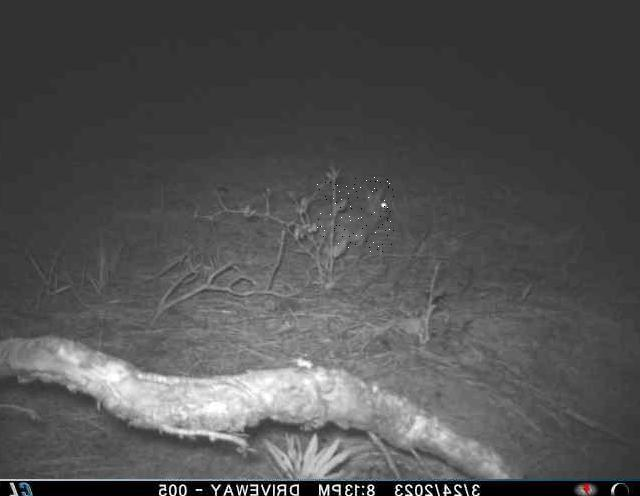Rabbit: (317, 178, 394, 253)
